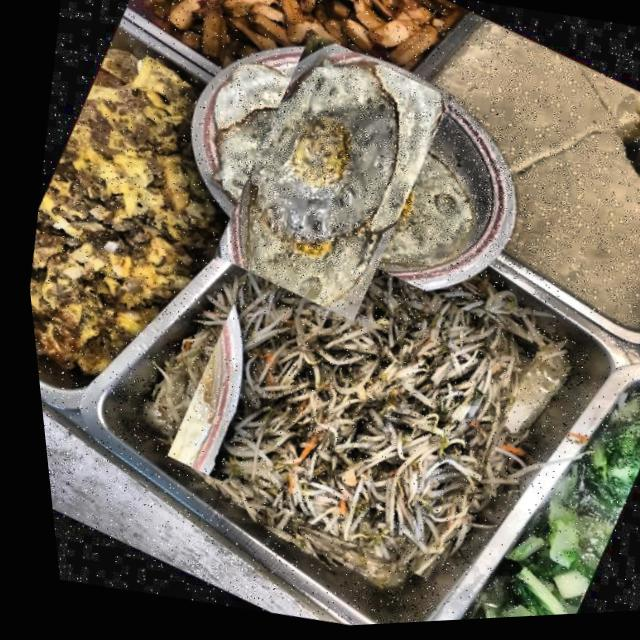Food: (121, 189, 567, 618), (166, 25, 487, 334)
